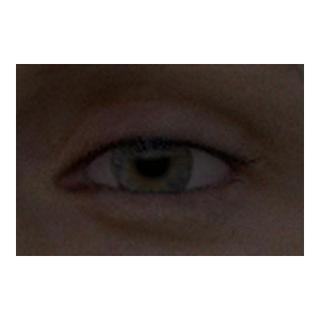pupil: (136, 145, 168, 176)
